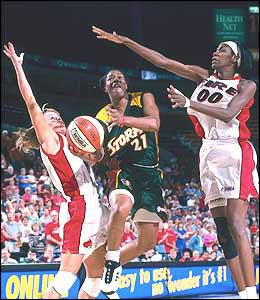basketball: (67, 116, 104, 154)
